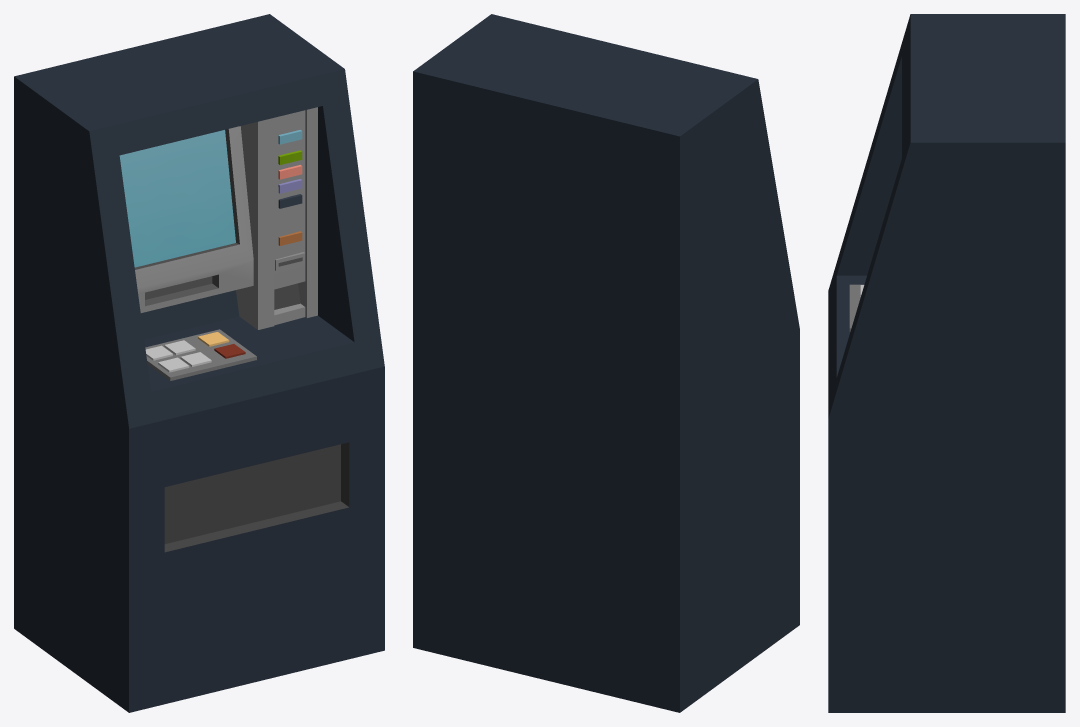
The model's file is SM_Props_Bank_02.fbx.
3 renders of one model, left to right at view 1: azimuth 30°, elevation 25°; view 2: azimuth 150°, elevation 25°; view 3: azimuth 270°, elevation 25°, orthographic. The views are drawn at different scales.
Parts seen in each view (by area): view 1: SM_Props_Bank_02; view 2: SM_Props_Bank_02; view 3: SM_Props_Bank_02.
Boxes of the visible parts, x1,y1,x2,y2 form: SM_Props_Bank_02: [14, 14, 384, 712]; SM_Props_Bank_02: [413, 14, 799, 712]; SM_Props_Bank_02: [828, 14, 1065, 712].
Bounding box in the file's own units: 0.8514 × 1.76 × 0.6632.
